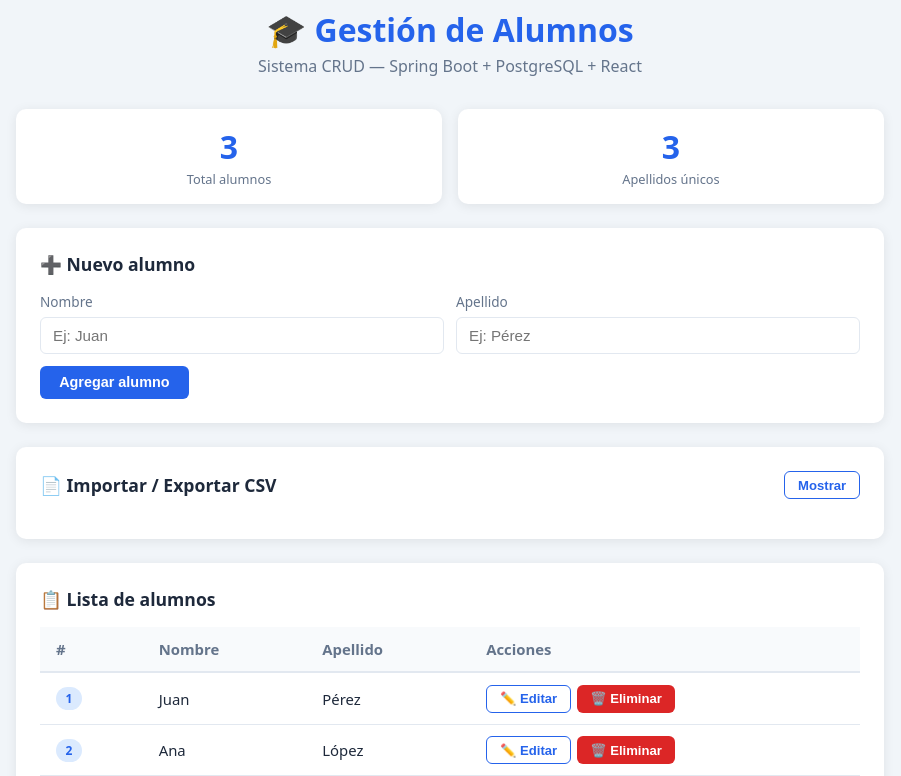
Test case: App — flujo de edición › guarda la edición y vuelve al modo creación
Click the button titled "Editar" in the row of "Juan". click: coordinates (529, 699)
box: x1=486 y1=684 x2=571 y2=713
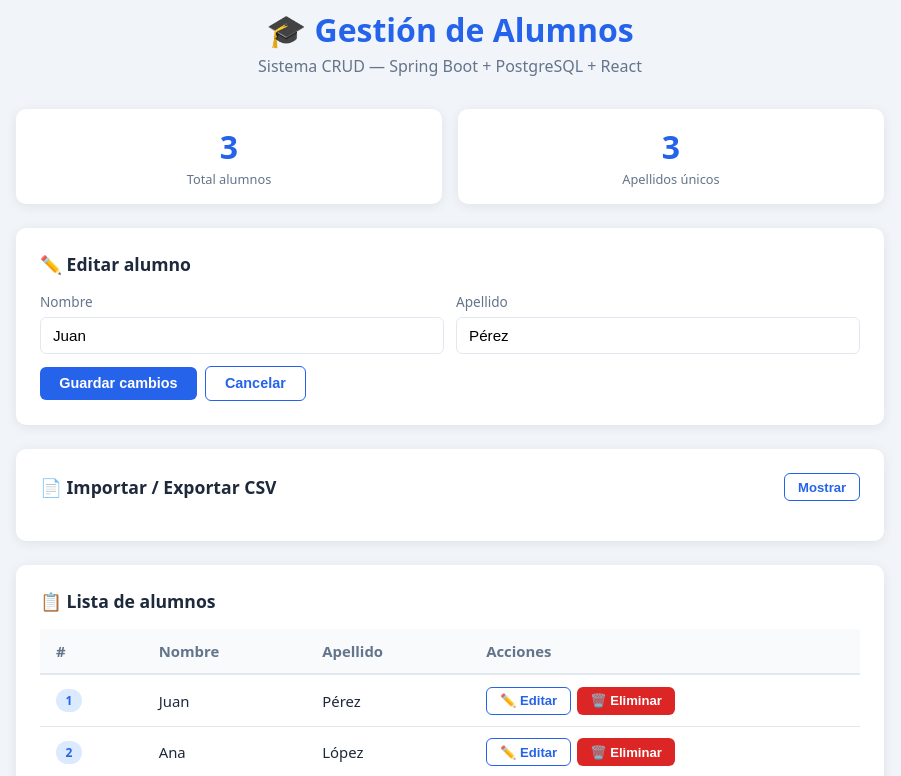
Now the text "✏️ Editar alumno" is shown, box x1=40 y1=252 x2=191 y2=276
Submit the form "Nombre Apellido Guardar cambios Cancelar", box x1=40 y1=292 x2=860 y2=401
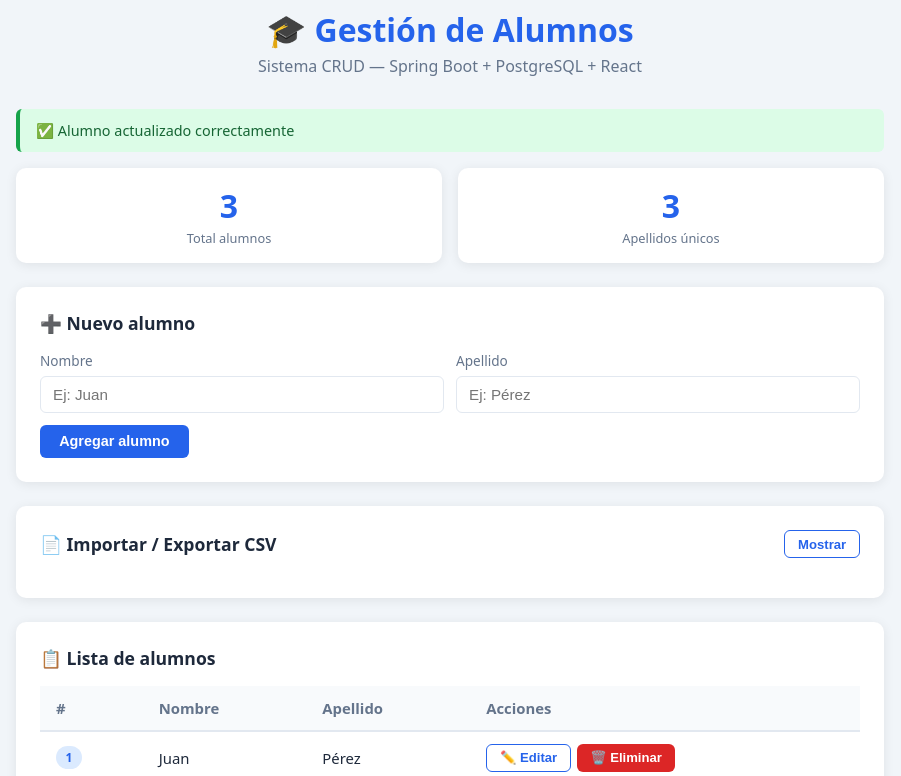
Now the text "✅ Alumno actualizado correctamente" is shown, box x1=16 y1=109 x2=884 y2=152
